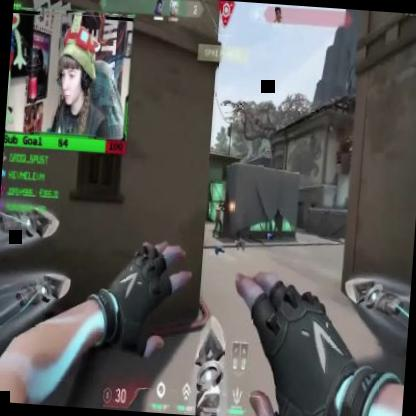enemy: (211, 199, 226, 235)
enemy_head: (219, 201, 222, 207)
